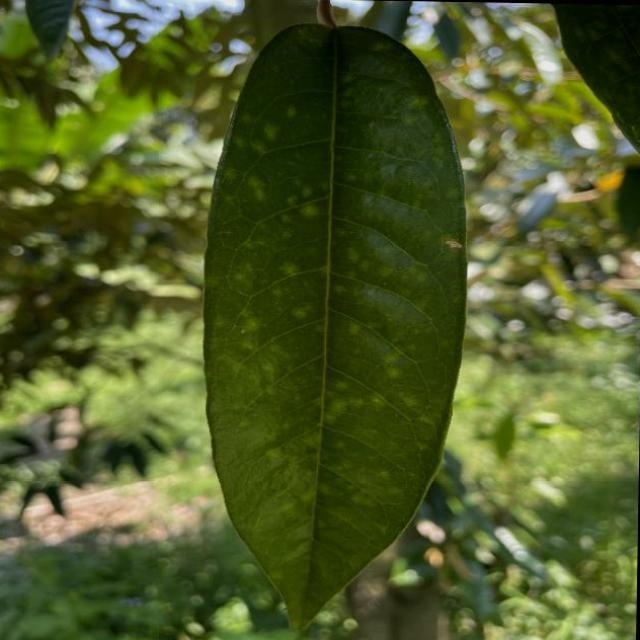Leaf Spot: (185, 8, 485, 640)
